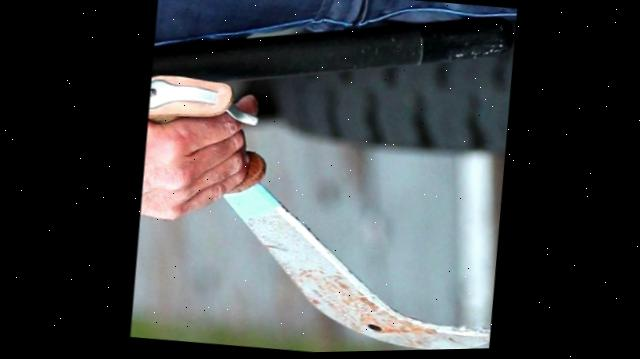long knife: (128, 60, 514, 357)
